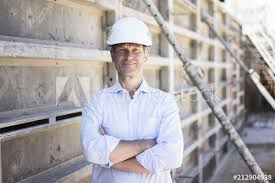Person_wearing_helmet: (100, 9, 156, 56)
